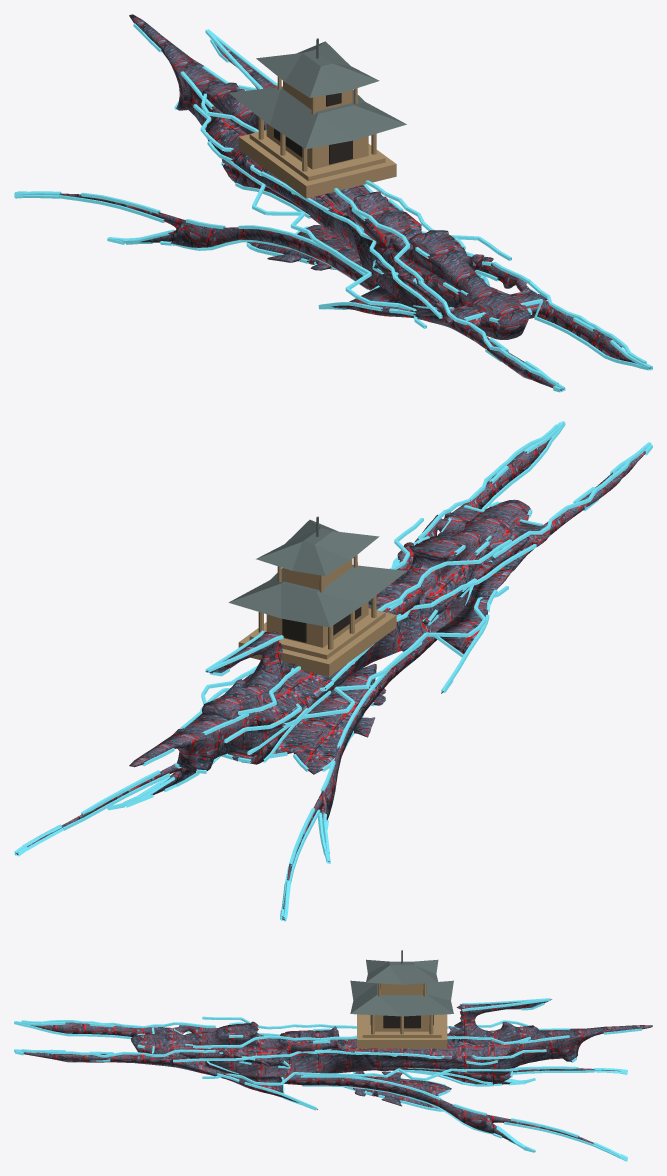
File: cruiser.glb
3 renders of one model, top to bottom at view 1: azimuth 30°, elevation 25°; view 2: azimuth 150°, elevation 25°; view 3: azimuth 270°, elevation 25°, orthographic. The views are drawn at different scales.
Parts seen in each view (by area): view 1: XZ_Cruiser, XZ_Temple, XZ_Trim; view 2: XZ_Cruiser, XZ_Temple, XZ_Trim; view 3: XZ_Cruiser, XZ_Trim, XZ_Temple.
Boxes of the visible parts, x1,y1,x2,y2 form: XZ_Cruiser: (60, 14, 650, 390); XZ_Temple: (228, 38, 406, 198); XZ_Trim: (14, 21, 652, 392); XZ_Cruiser: (15, 438, 645, 920); XZ_Temple: (228, 516, 406, 676); XZ_Trim: (14, 421, 652, 921); XZ_Cruiser: (23, 999, 652, 1151); XZ_Trim: (14, 998, 641, 1161); XZ_Temple: (350, 950, 453, 1048).
Size of the model in its own units: 7.24 by 6.33 by 21.91.
5 materials, 1 textured.
